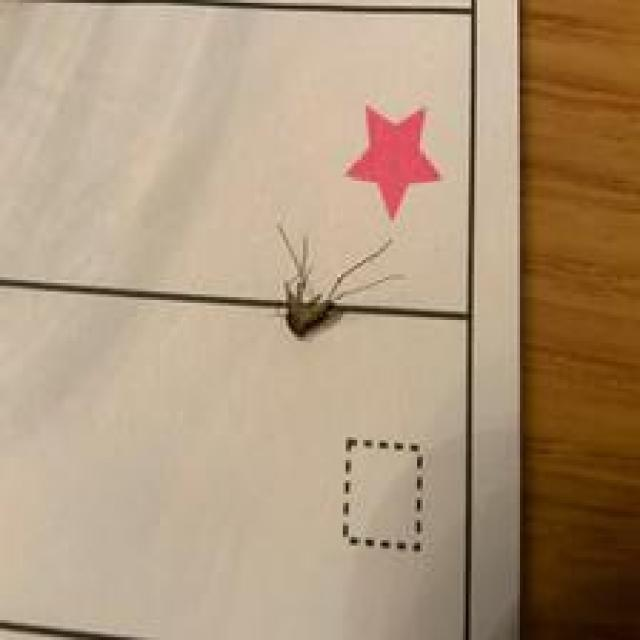Culex: (0, 220, 406, 340)
